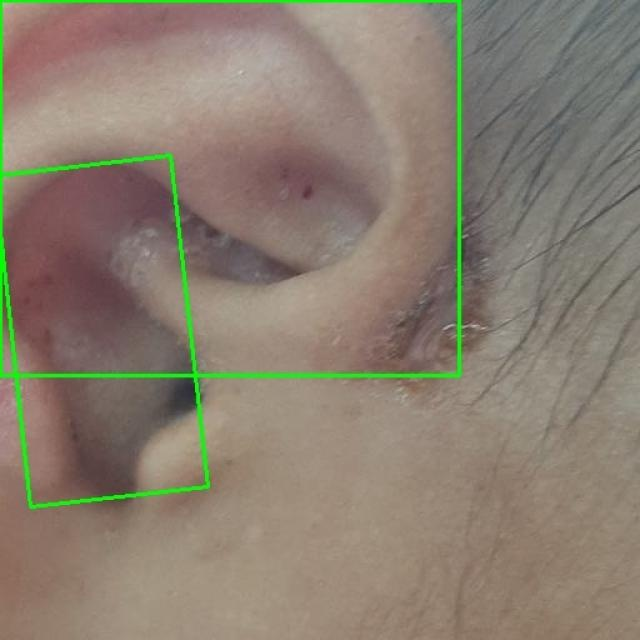Eczema: (0, 0, 460, 376), (0, 155, 210, 508)
